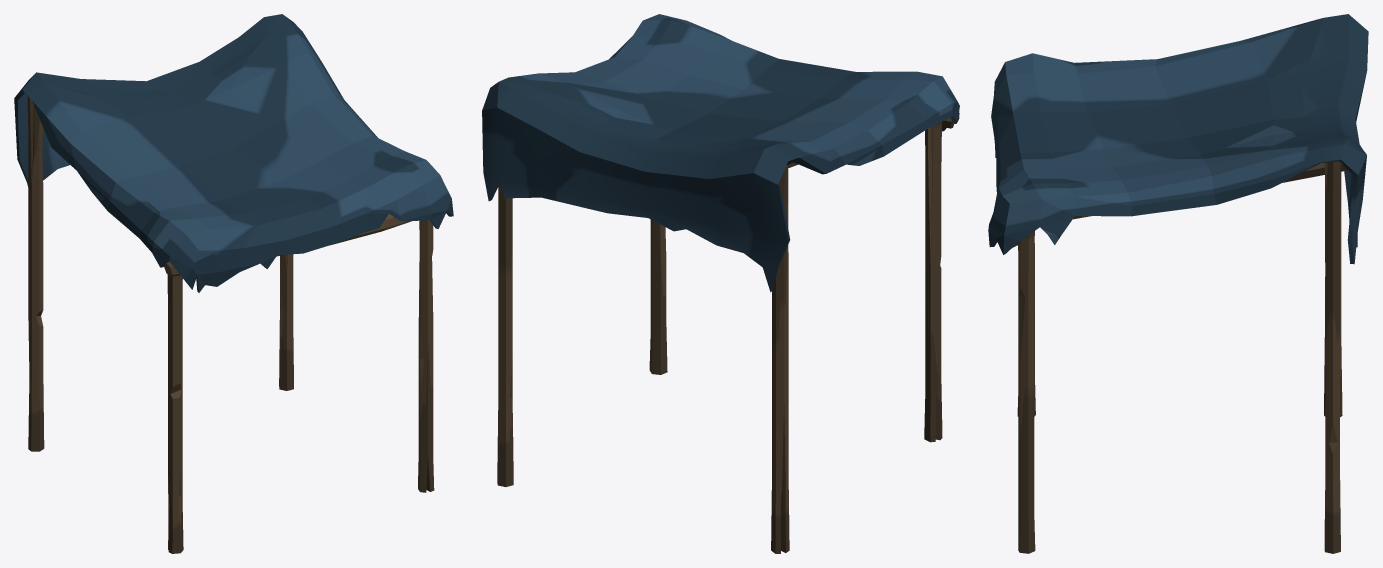
File: SM_Prop_Awning_03.fbx
3 renders of one model, left to right at view 1: azimuth 30°, elevation 25°; view 2: azimuth 150°, elevation 25°; view 3: azimuth 270°, elevation 25°, orthographic. The views are drawn at different scales.
Parts seen in each view (by area): view 1: SM_Prop_Awning_03; view 2: SM_Prop_Awning_03; view 3: SM_Prop_Awning_03.
Boxes of the visible parts, left/top/right/bottom form: SM_Prop_Awning_03: left=14, top=14, right=453, bottom=553; SM_Prop_Awning_03: left=482, top=14, right=959, bottom=553; SM_Prop_Awning_03: left=988, top=14, right=1368, bottom=553.
Bounding box in the file's own units: 267 × 327 × 277.
